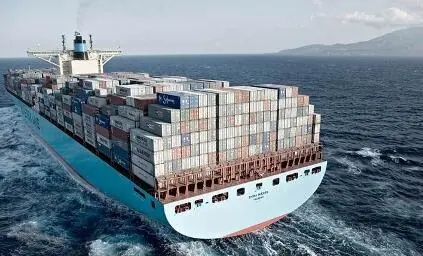Cargoship: (4, 27, 329, 239)
